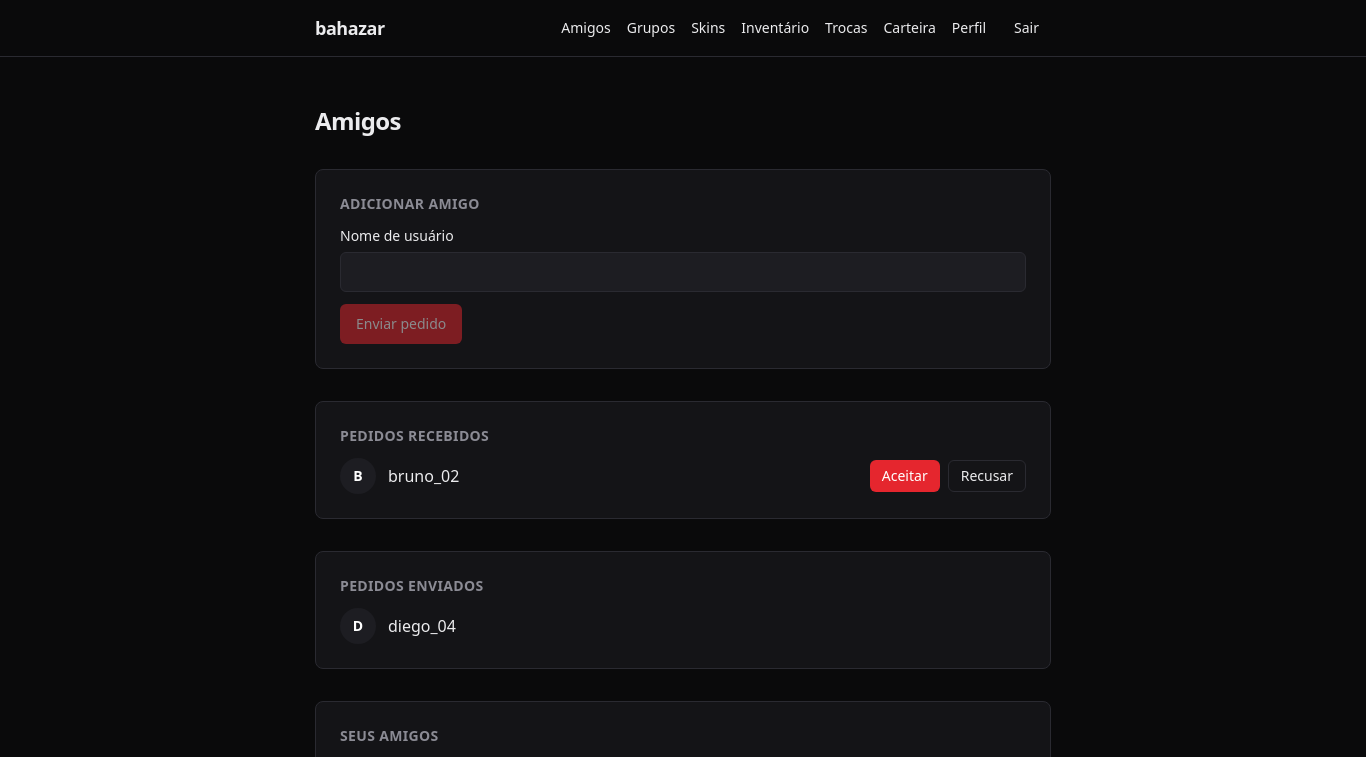
it: FriendsPage › Recusar tira o pedido de Recebidos e não cria amizade
The image size is (1366, 757).
Check: the heading "Amigos" is shown, box [315,104,401,137]
Step 1. Click the button with aria-label "Recusar bruno_02" → (987,476), box [948,460,1026,492]
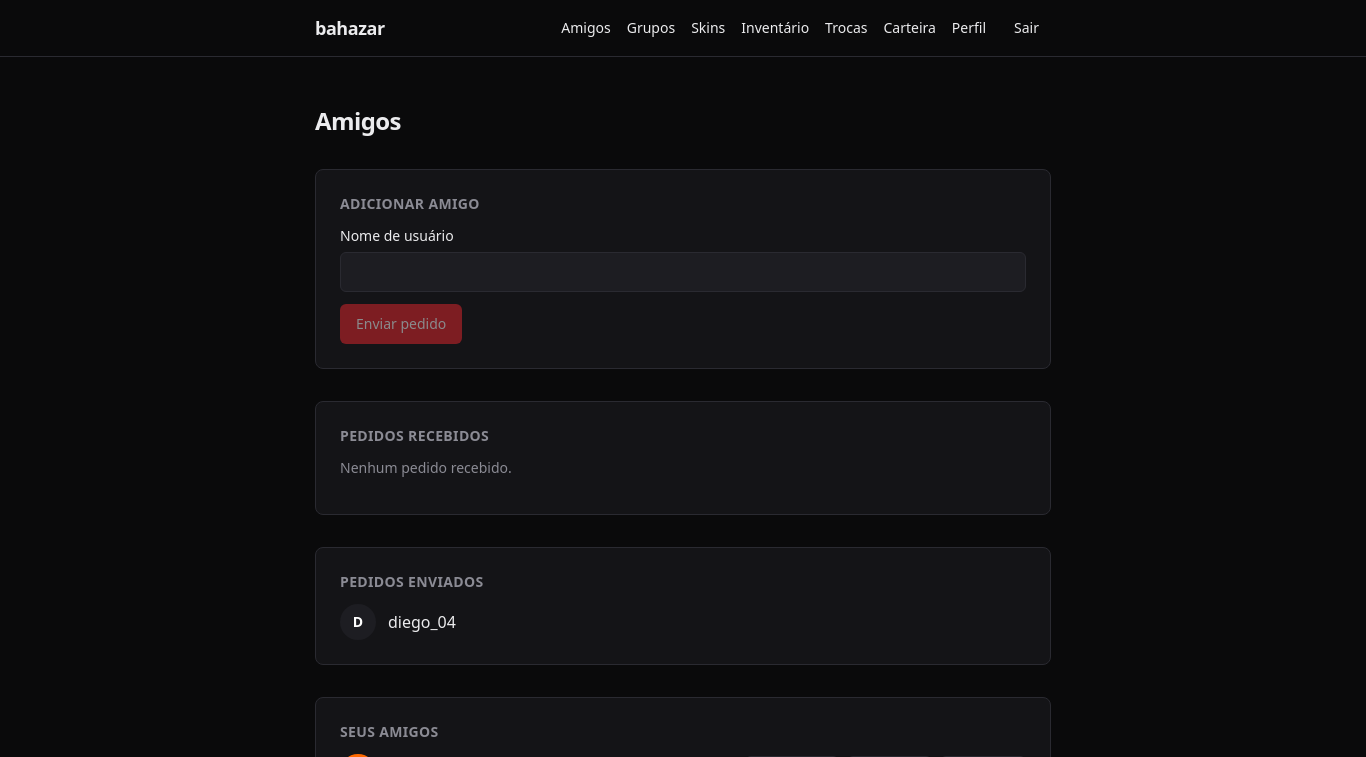
Check: the text "bruno_02" is gone
